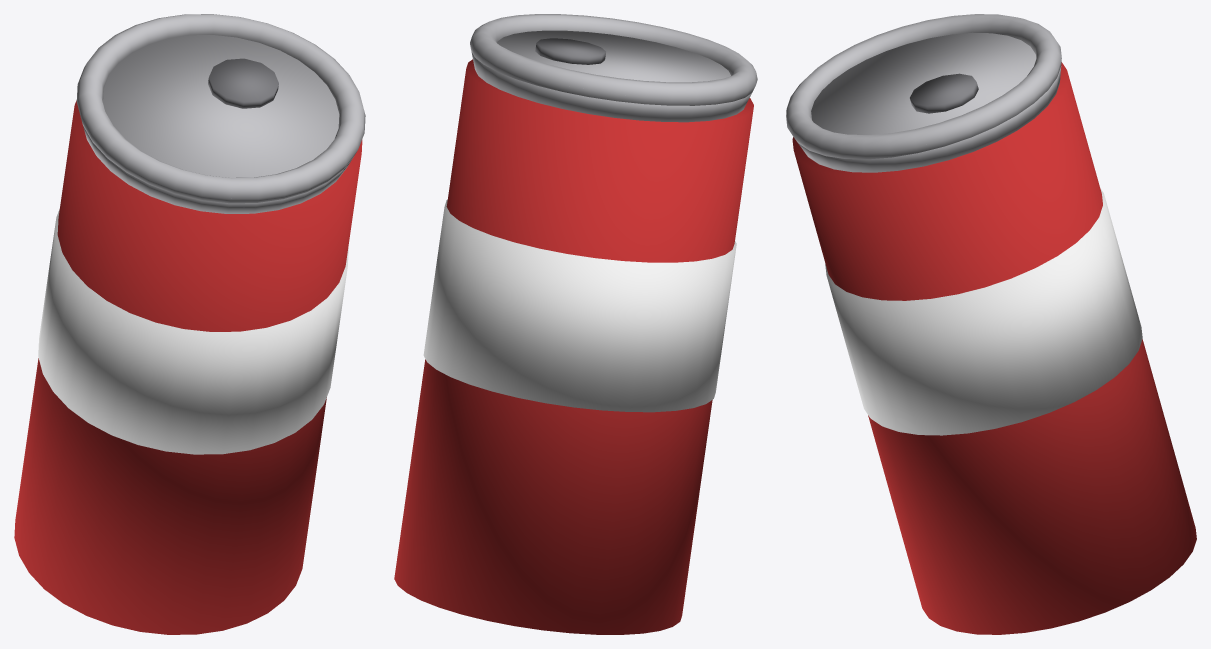
Rendered from can.fbx.
3 views of the same model, side by side, from view 1: azimuth 30°, elevation 25°; view 2: azimuth 150°, elevation 25°; view 3: azimuth 270°, elevation 25° (orthographic). The views are drawn at different scales.
Parts seen in each view (by area): view 1: Can; view 2: Can; view 3: Can.
Part boxes in pixels (x1=…): Can: x1=14, y1=14, x2=365, y2=634; Can: x1=394, y1=14, x2=757, y2=634; Can: x1=786, y1=14, x2=1196, y2=634.
Bounding box in the file's own units: 0.481 × 0.676 × 1.
